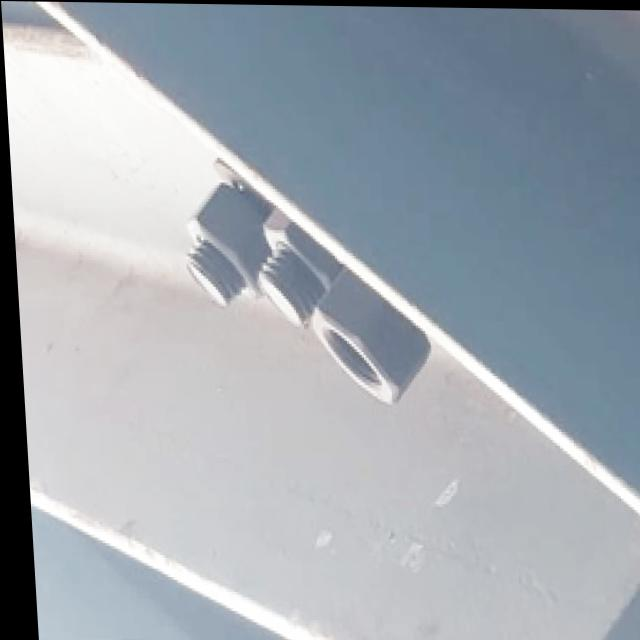Loose bolt: (304, 303, 418, 384)
Regular bolt: (187, 184, 269, 285), (247, 227, 323, 312)
